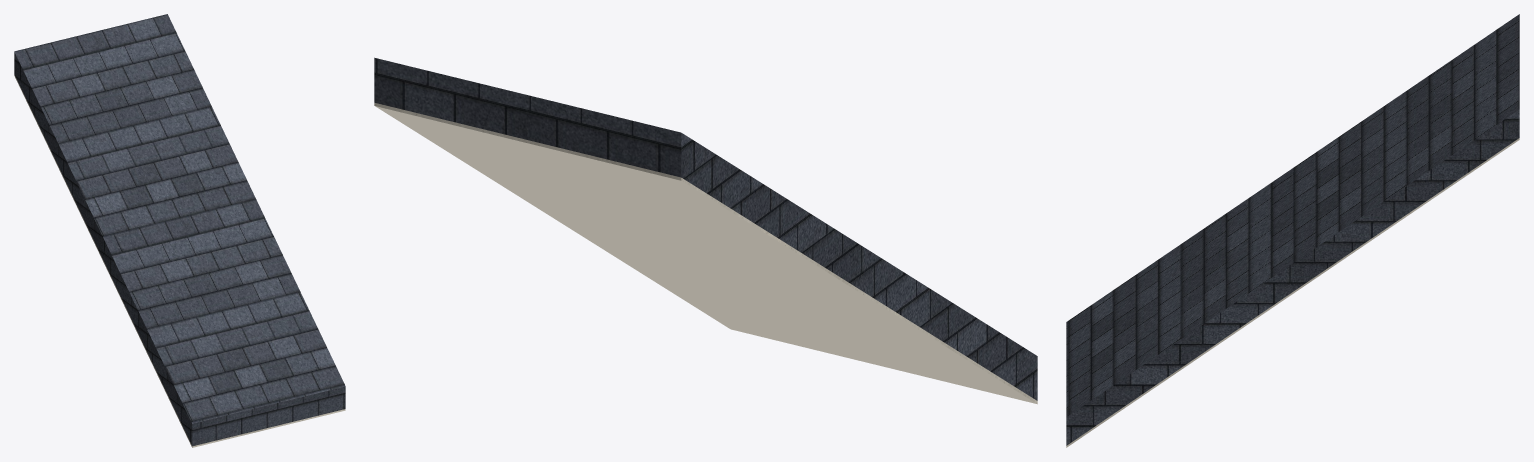
File: wing_slope_wall.glb
3 views of the same model, side by side, from view 1: azimuth 30°, elevation 25°; view 2: azimuth 150°, elevation 25°; view 3: azimuth 270°, elevation 25° (orthographic). The views are drawn at different scales.
Visible parts, largest first — view 1: wing_slope_wall_shingle, wing_slope_wall_plaster; view 2: wing_slope_wall_plaster, wing_slope_wall_shingle; view 3: wing_slope_wall_shingle, wing_slope_wall_plaster.
Part boxes in pixels (x1,y1,x2,y2): wing_slope_wall_shingle: [14, 14, 345, 446]; wing_slope_wall_plaster: [14, 75, 345, 447]; wing_slope_wall_plaster: [374, 102, 1037, 404]; wing_slope_wall_shingle: [374, 57, 1037, 400]; wing_slope_wall_shingle: [1066, 14, 1519, 445]; wing_slope_wall_plaster: [1066, 138, 1519, 447].
Size of the model in its own units: 2 by 3.32 by 4.02.
Materials: 2 (2 with a texture image).
